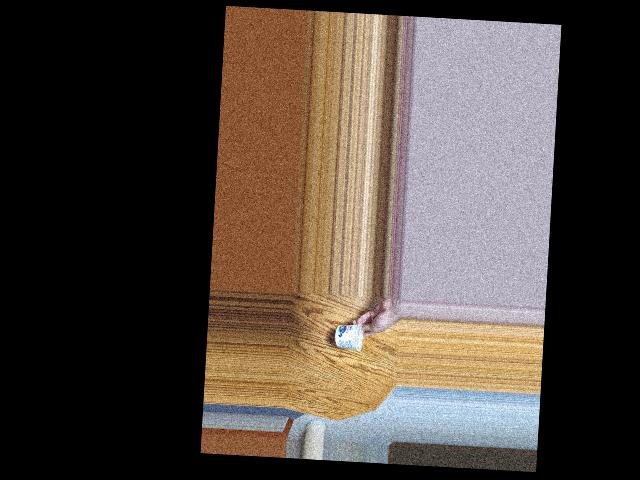cotage: (330, 323, 365, 357)
